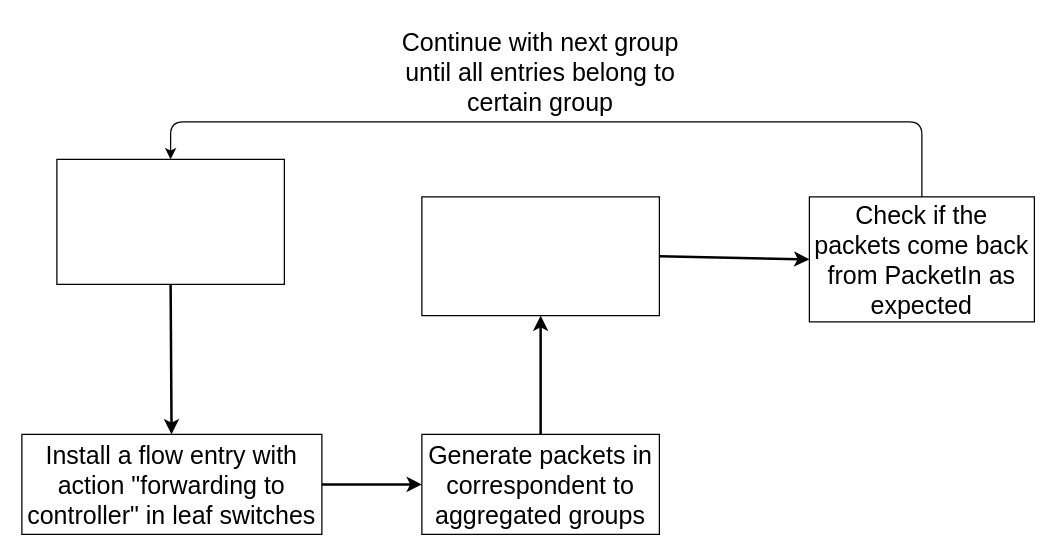
This 1056x556 diagram has some shape labels left out. The centre of each missing label's shape, as x and y in pixels:
"Find an aggregated group and add flow entries on splitting switches" belongs at [170,221].
"Send the packets to starting switch of the aggregated group" belongs at [540,256].
